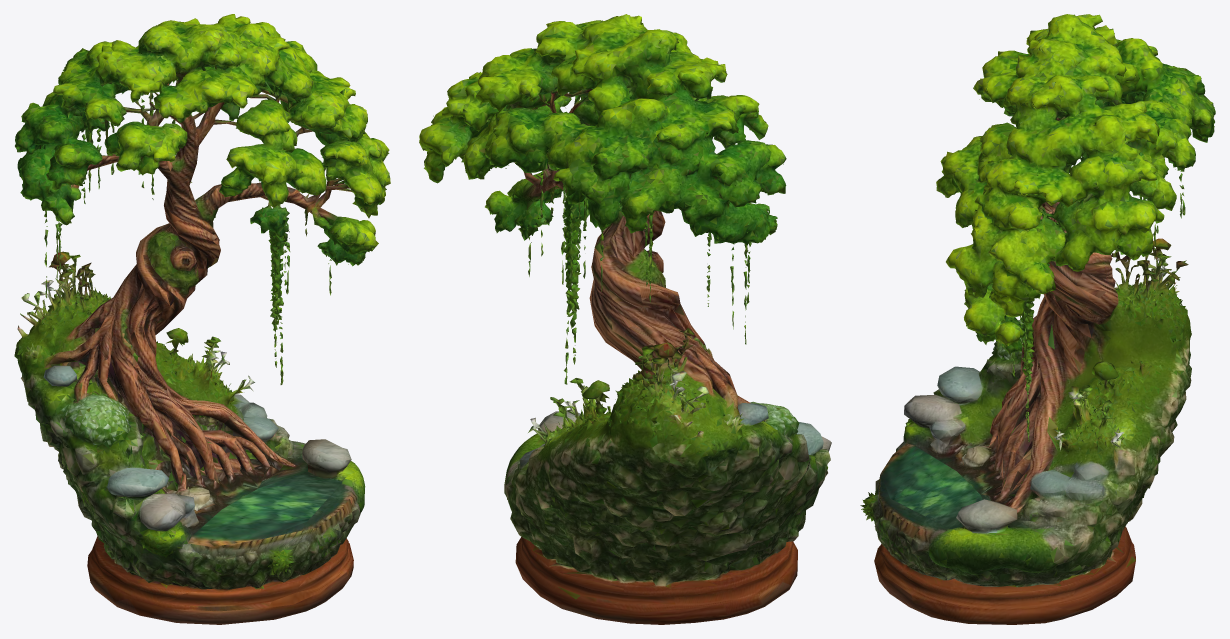
File: Whispering_Willow_of.glb
3 renders of one model, left to right at view 1: azimuth 30°, elevation 25°; view 2: azimuth 150°, elevation 25°; view 3: azimuth 270°, elevation 25°, orthographic. The views are drawn at different scales.
Parts seen in each view (by area): view 1: Whispering_Willow_of; view 2: Whispering_Willow_of; view 3: Whispering_Willow_of.
Part boxes in pixels (x1,y1,x2,y2): Whispering_Willow_of: (14, 14, 390, 624); Whispering_Willow_of: (419, 14, 831, 624); Whispering_Willow_of: (860, 14, 1215, 624).
Bounding box in the file's own units: 1.25 × 1.89 × 1.13.
Materials: 1 (1 with a texture image).
